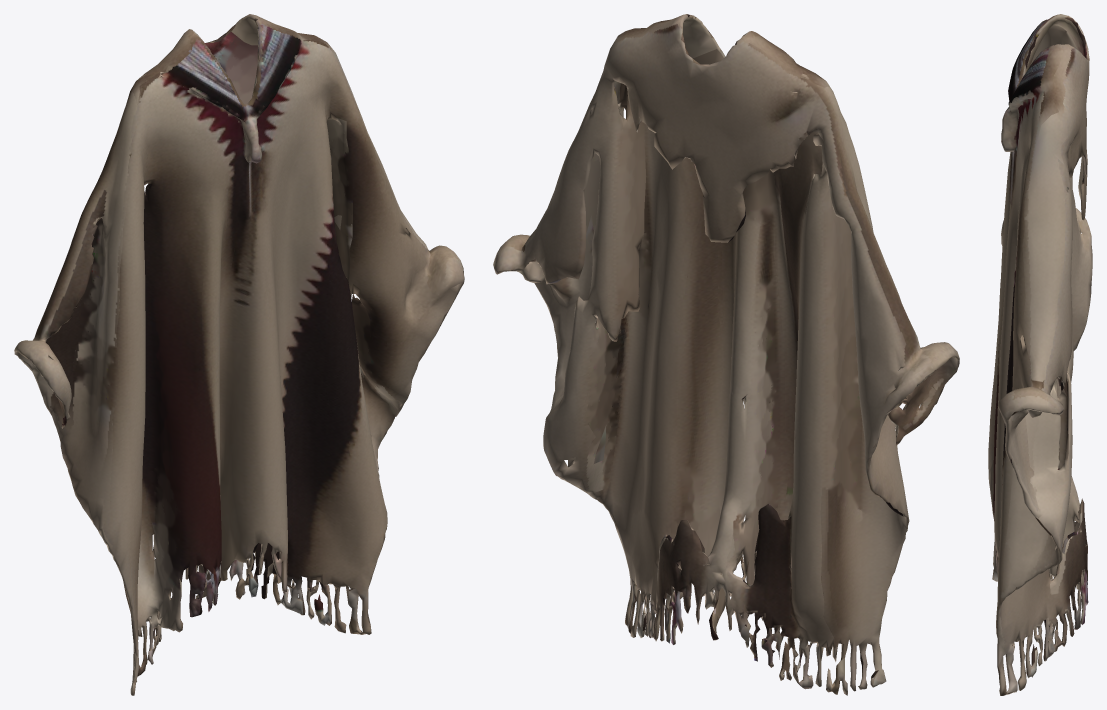
Rendered from poncho.glb.
The picture shows the model from 3 angles, left to right: view 1: azimuth 30°, elevation 25°; view 2: azimuth 150°, elevation 25°; view 3: azimuth 270°, elevation 25°; orthographic projection. The views are drawn at different scales.
Parts seen in each view (by area): view 1: temp_mesh.ply; view 2: temp_mesh.ply; view 3: temp_mesh.ply.
Part boxes in pixels (x1=…): temp_mesh.ply: x1=14, y1=14, x2=464, y2=695; temp_mesh.ply: x1=493, y1=14, x2=959, y2=695; temp_mesh.ply: x1=988, y1=14, x2=1092, y2=695.
Size of the model in its own units: 1.8 by 2.5 by 0.3839.
1 material, 1 textured.
